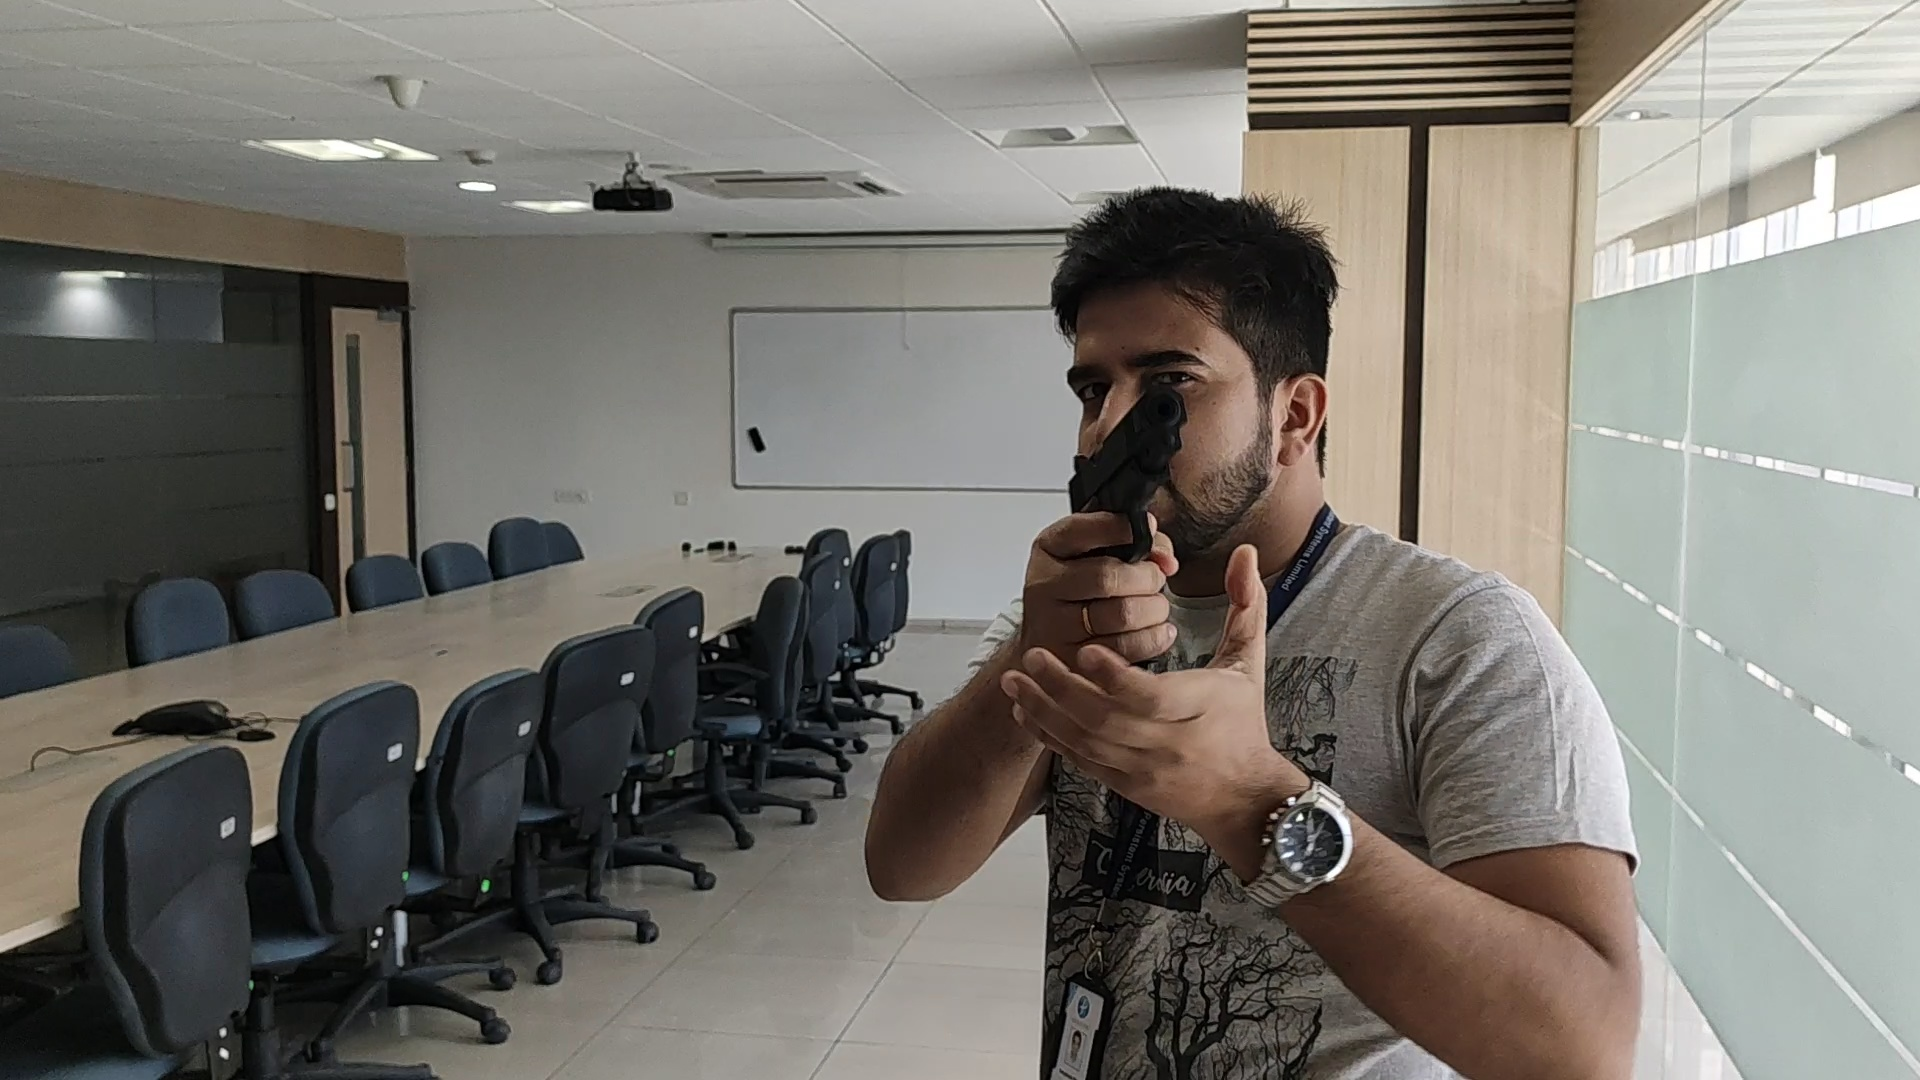gun: (1067, 384, 1188, 560)
